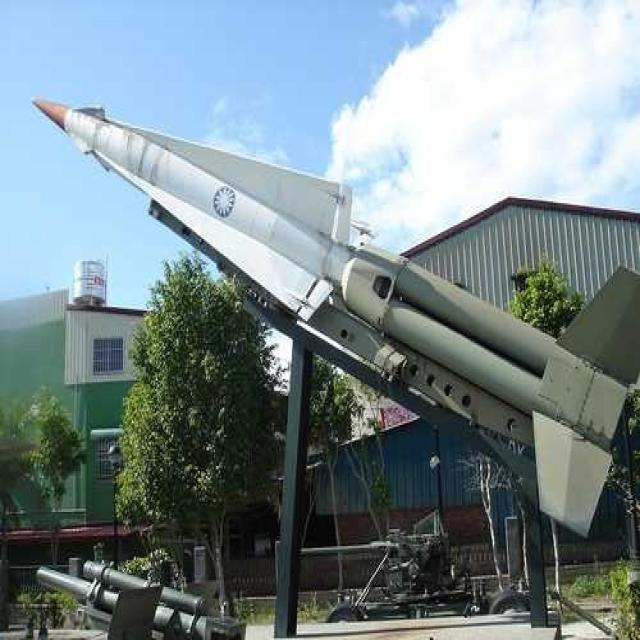missile: (31, 94, 386, 324)
